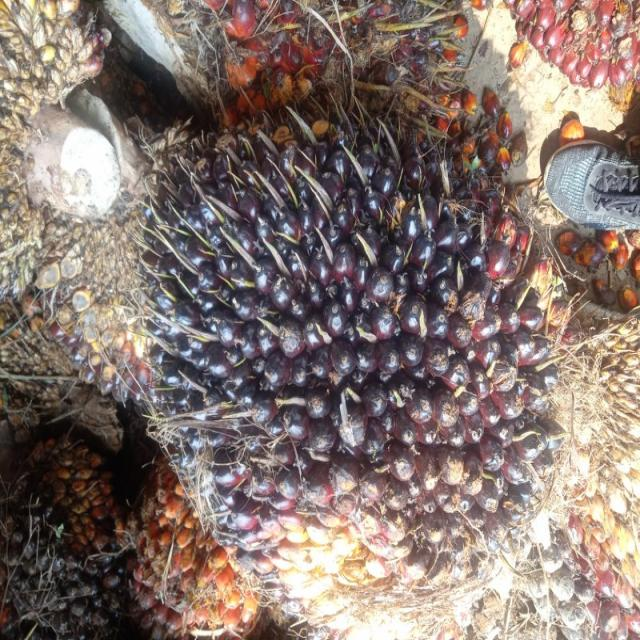fraksi 00: (121, 121, 569, 617)
